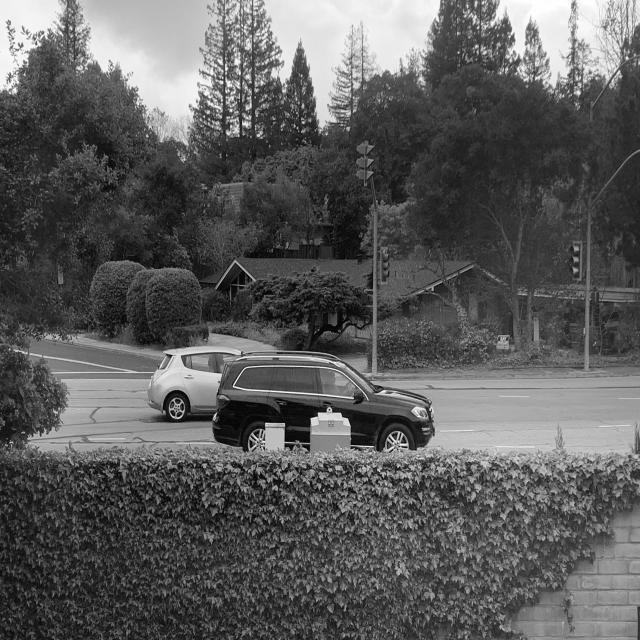Hatchback: (148, 346, 244, 422)
SUV: (212, 351, 435, 453)
